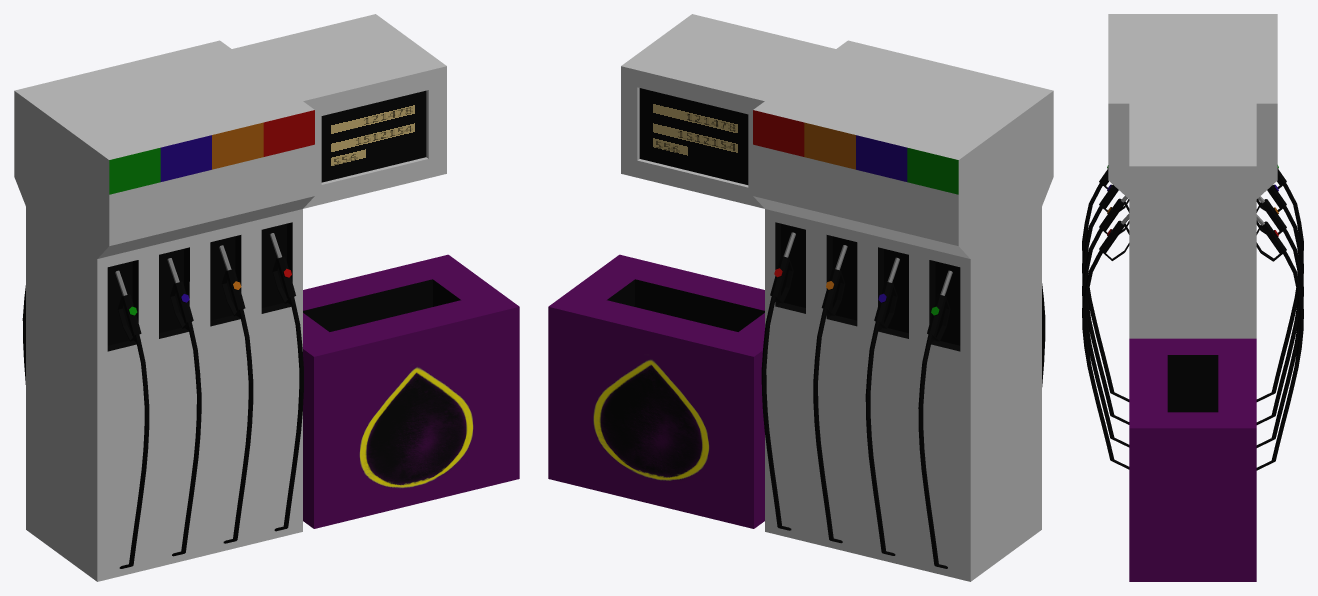
The model's file is gas machine.glb.
3 renders of one model, left to right at view 1: azimuth 30°, elevation 25°; view 2: azimuth 150°, elevation 25°; view 3: azimuth 270°, elevation 25°, orthographic. The views are drawn at different scales.
Visible parts, largest first — view 1: gas-service, gas-trash, manguera-GF, manguera-BF, manguera-OF, manguera-RF; view 2: gas-service, gas-trash, manguera-GB, manguera-RB, manguera-OB, manguera-BB; view 3: gas-service, gas-trash, manguera-RB, manguera-RF, manguera-OF, manguera-OB, manguera-BB, manguera-BF, manguera-GB, manguera-GF.
Boxes of the visible parts, <box> form: gas-service: <box>14,14,446,581</box>; gas-trash: <box>303,254,519,528</box>; manguera-GF: <box>115,270,149,568</box>; manguera-BF: <box>167,258,201,556</box>; manguera-OF: <box>219,245,253,543</box>; manguera-RF: <box>270,233,303,531</box>; gas-service: <box>621,14,1053,581</box>; gas-trash: <box>548,254,764,528</box>; manguera-GB: <box>918,270,952,568</box>; manguera-RB: <box>761,232,795,530</box>; manguera-OB: <box>813,245,847,543</box>; manguera-BB: <box>865,257,899,555</box>; gas-service: <box>1108,14,1277,338</box>; gas-trash: <box>1129,338,1256,581</box>; manguera-RB: <box>1256,214,1303,470</box>; manguera-RF: <box>1082,213,1129,469</box>; manguera-OF: <box>1082,196,1129,447</box>; manguera-OB: <box>1256,196,1303,447</box>; manguera-BB: <box>1256,184,1303,424</box>; manguera-BF: <box>1082,184,1129,424</box>; manguera-GB: <box>1256,165,1303,401</box>; manguera-GF: <box>1082,165,1129,401</box>.
Size of the model in its own units: 2.05 by 2 by 1.05.
Materials: 9 (2 with a texture image).
